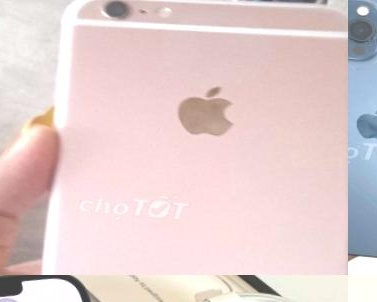physical_damage: (348, 69, 377, 275), (348, 0, 377, 78)
